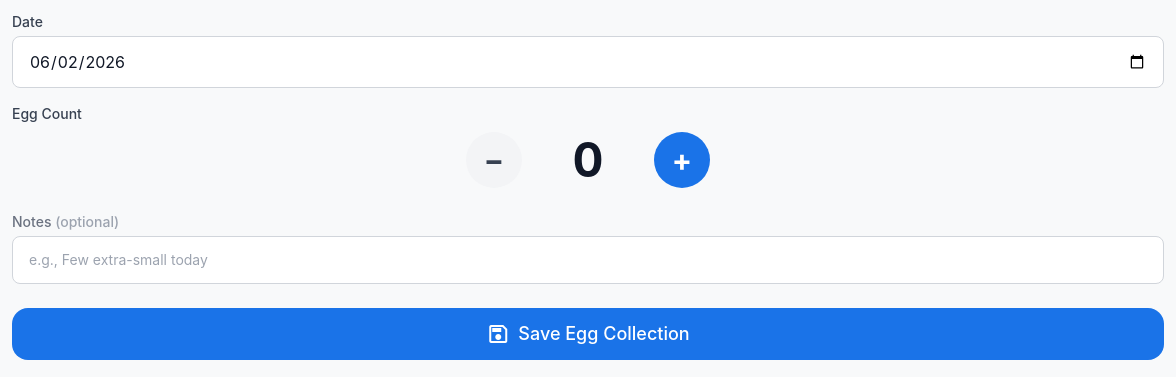
Test: EggCollectionForm › decreases count when - button is clicked
Step 1. Click the button named "Increase egg count" → x=682, y=160, box top-left (654, 132), bottom-right (710, 188)
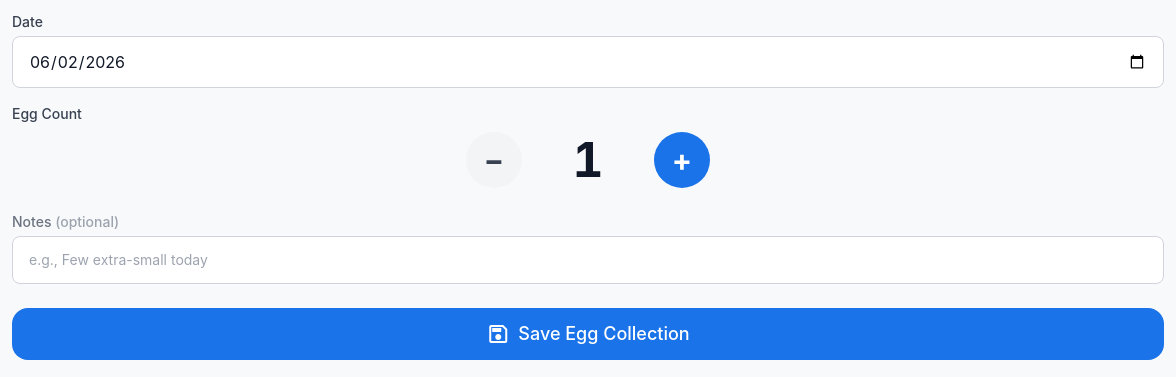
Step 2. Click the button named "Increase egg count" → x=682, y=160, box top-left (654, 132), bottom-right (710, 188)
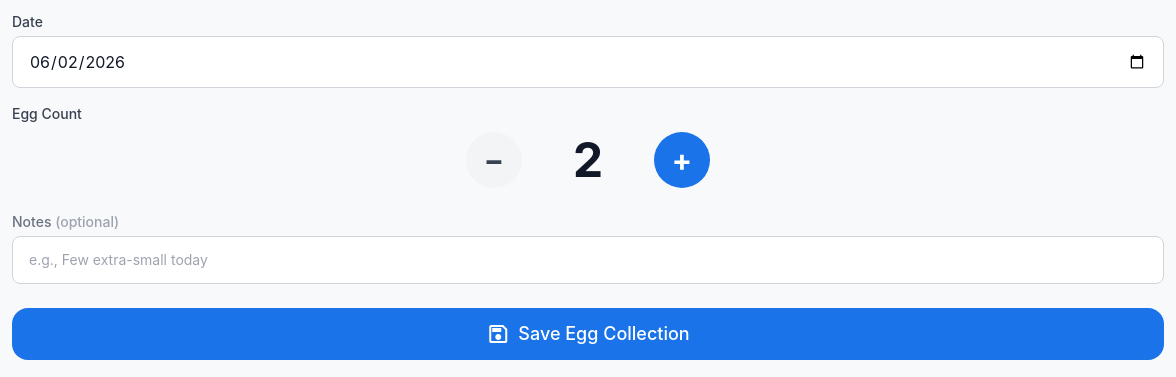
Step 3. Click the button named "Increase egg count" → x=682, y=160, box top-left (654, 132), bottom-right (710, 188)
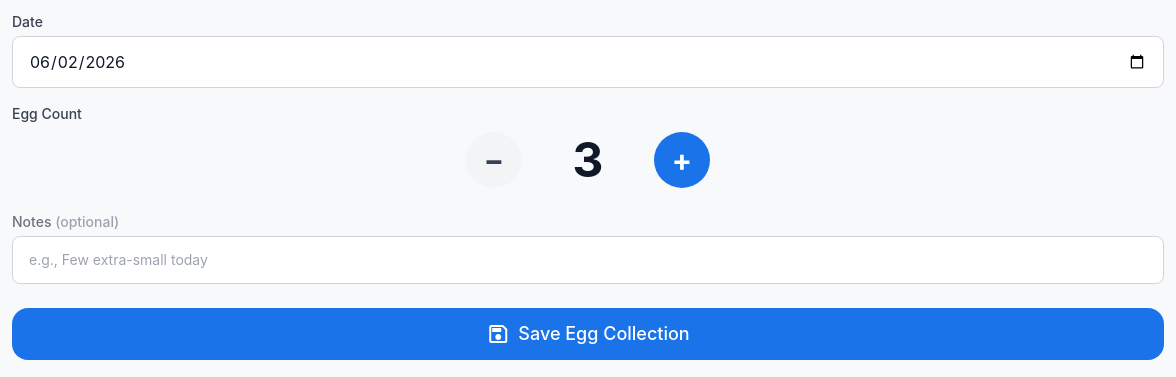
Result: the text "3" is shown at top-left (572, 130), bottom-right (604, 189)
Step 4. Click the button named "Decrease egg count" → x=494, y=160, box top-left (466, 132), bottom-right (522, 188)
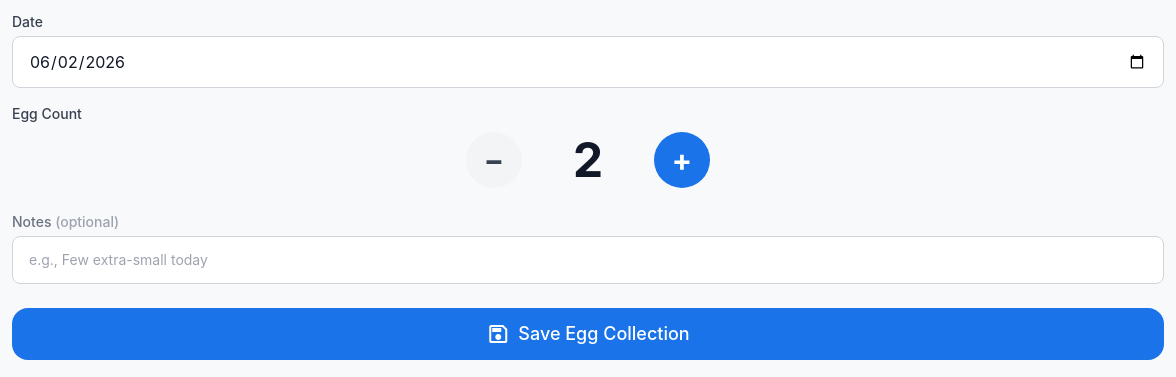
Result: the text "2" is shown at top-left (572, 130), bottom-right (604, 189)
